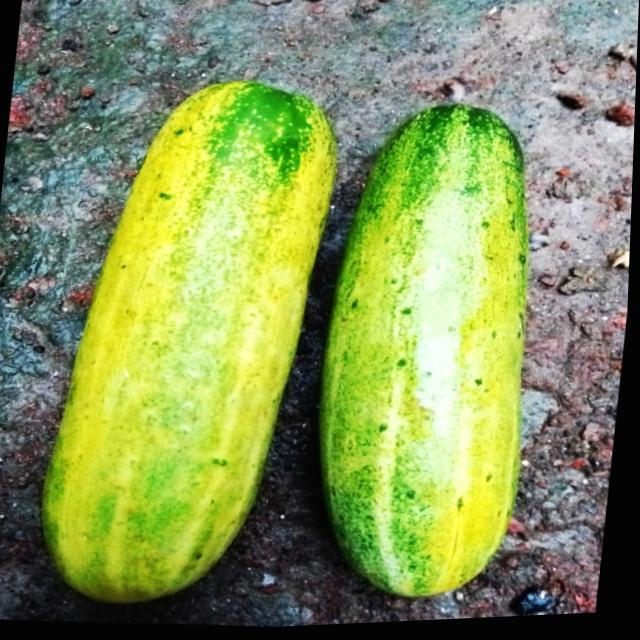Fresh-Cucumber: (31, 63, 350, 624), (298, 93, 564, 617)
